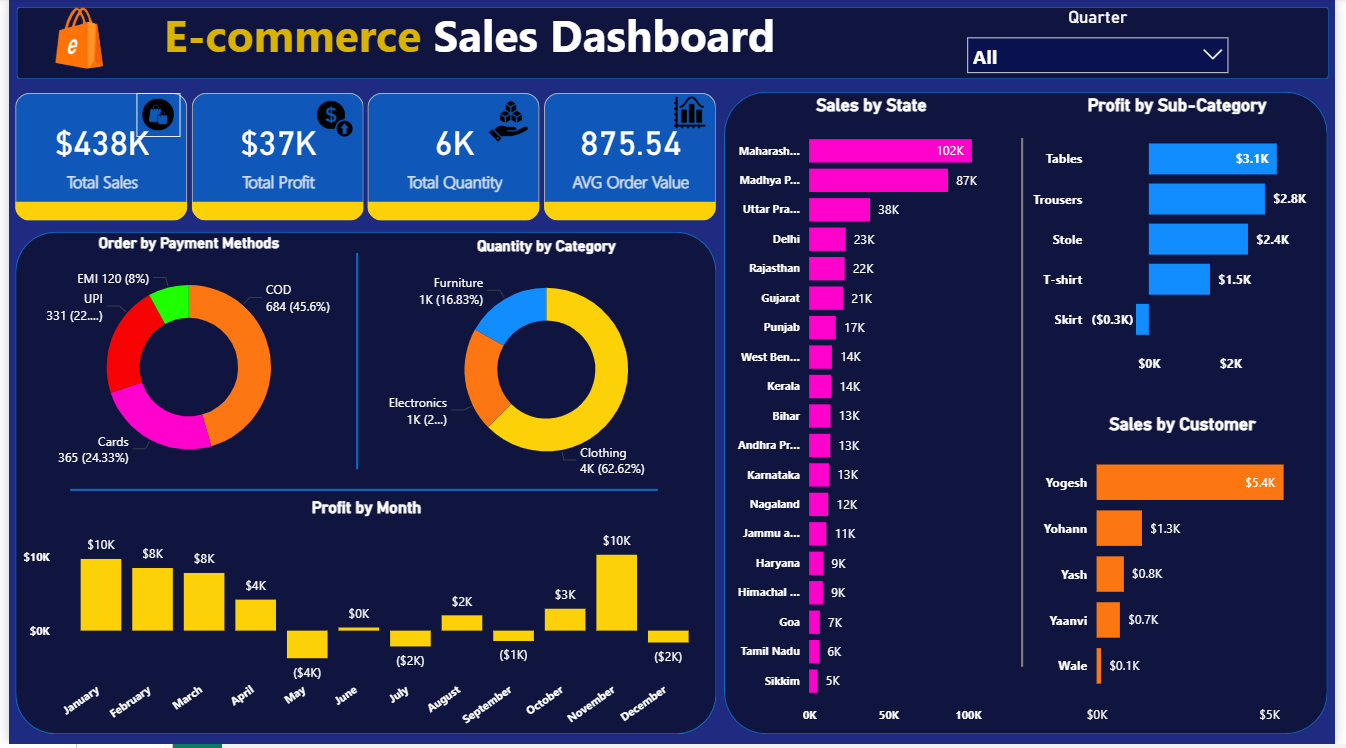

The dashboard page shown, as its layout file describes it:
{"tool":"powerbi","page":{"name":"Page 1","canvas":[1280,720],"ordinal":0},"visuals":[{"type":"cardVisual","fields":{"Data":["Details.Total Sales","Details.Profit","Details.Quantity","Details.AOV"]},"box":[1.5,86.8,686.5,133.9],"z":0,"group":"g1"},{"type":"shape","box":[690.1,90.5,582.7,620.1],"z":0},{"type":"image","box":[123.4,91.6,42.2,42.2],"z":1000,"group":"g1"},{"type":"shape","box":[6,225.6,676.8,485],"z":1000},{"type":"shape","box":[7.2,8.4,1266.8,70],"z":2000},{"type":"image","box":[292.3,94.1,44.6,44.6],"z":2000,"group":"g1"},{"type":"textbox","box":[126.7,1.2,635.8,76],"z":3000},{"type":"image","box":[457.5,94.1,49.5,49.5],"z":3000,"group":"g1"},{"type":"image","box":[32.6,0,71.2,77.2],"z":4000},{"type":"image","box":[637.3,90.4,39.8,39.8],"z":4000,"group":"g1"},{"type":"slicer","title":"Quarter","fields":{"Values":["Orders.Order Date.Variation.Date Hierarchy.Quarter"]},"box":[914.8,8.4,272.7,82],"z":5000,"group":"g1"},{"type":"group","id":"g1","title":"Group 1","box":[1.5,8.4,1185.9,212.3],"z":5000},{"type":"columnChart","fields":{"Category":["Orders.Order Date.Variation.Date Hierarchy.Month"],"Y":["Details.Profit"]},"box":[8.4,482.6,673.2,229.2],"z":6000},{"type":"barChart","title":"Sales by State","fields":{"Category":["Orders.State"],"Y":["Details.Amount"]},"box":[686.5,92.9,292,616.5],"z":7000},{"type":"donutChart","title":"Quantity by Category","fields":{"Category":["Details.Category"],"Y":["Details.Quantity"]},"box":[354.7,230.4,328.2,240.1],"z":8000},{"type":"donutChart","title":"Order by Payment Methods","fields":{"Y":["Details.Order ID"],"Category":["Details.PaymentMode (groups)"]},"box":[6,228,335.4,240.1],"z":9000},{"type":"shape","box":[951.9,135.1,51.9,510.3],"z":10000},{"type":"shape","box":[59.1,454.8,567,39.8],"z":11000},{"type":"shape","box":[307.6,246.1,56.7,208.7],"z":12000},{"type":"clusteredBarChart","title":"Profit by Sub-Category","fields":{"Category":["Details.Sub-Category"],"Y":["Details.Profit"]},"box":[982.1,92.7,290.8,278],"z":13000},{"type":"barChart","title":"Sales by Customer","fields":{"Category":["Orders.CustomerName"],"Y":["Details.Total Sales"]},"box":[993.5,400.5,279.4,309.3],"z":14000}]}

Visuals, with their boxes in screenshot pixels (x1, y1, x2, y2), scaled from the page's 1280x720 canvas onto the 1346x748 screenshot:
cardVisual - Details.Total Sales x Details.Profit: (2,90,723,229)
shape: (726,94,1338,738)
image: (130,95,174,139)
shape: (6,234,718,738)
shape: (8,9,1340,81)
image: (307,98,354,144)
textbox: (133,1,802,80)
image: (481,98,533,149)
image: (34,0,109,80)
image: (670,94,712,135)
"Quarter" slicer: (962,9,1249,94)
"Group 1" group: (2,9,1249,229)
columnChart - Orders.Order Date.Variation.Date Hierarchy.Month x Details.Profit: (9,501,717,739)
"Sales by State" barChart: (722,97,1029,737)
"Quantity by Category" donutChart: (373,239,718,489)
"Order by Payment Methods" donutChart: (6,237,359,486)
shape: (1001,140,1056,670)
shape: (62,472,658,514)
shape: (323,256,383,472)
"Profit by Sub-Category" clusteredBarChart: (1033,96,1339,385)
"Sales by Customer" barChart: (1045,416,1339,737)
